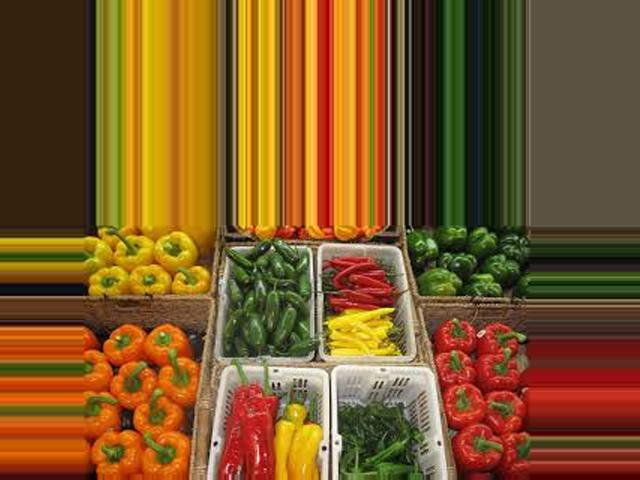bell_pepper: (462, 258, 504, 304)
